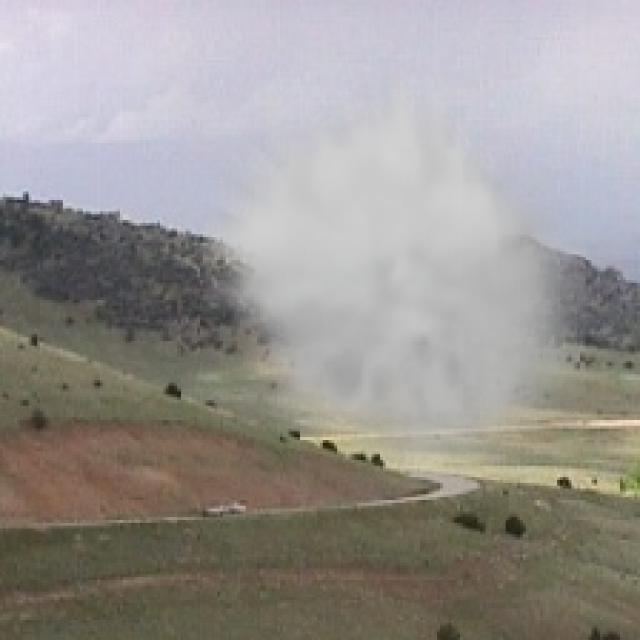smoke: (203, 69, 586, 488)
